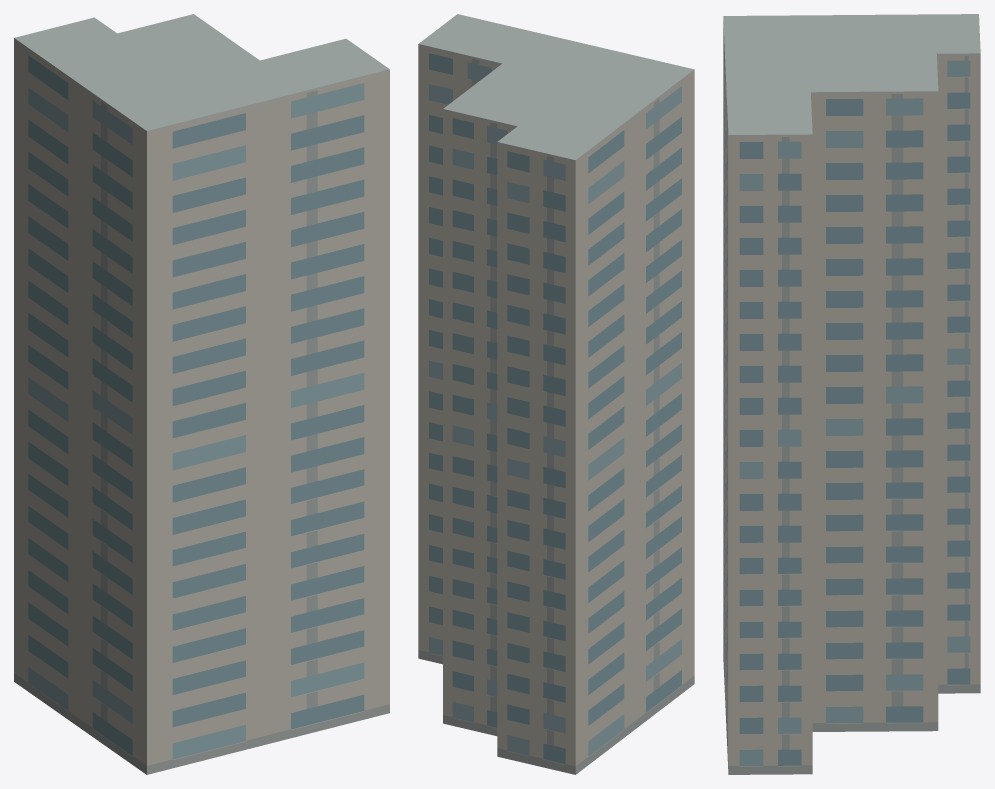
The model's file is residential-b32a165b-7125-4ed0-94af-2a980f3abeb2.glb.
3 views of the same model, side by side, from view 1: azimuth 30°, elevation 25°; view 2: azimuth 150°, elevation 25°; view 3: azimuth 270°, elevation 25° (orthographic). The views are drawn at different scales.
Parts seen in each view (by area): view 1: residential-b32a165b-7125-4ed0-94af-2a980f3abeb2.tmp; view 2: residential-b32a165b-7125-4ed0-94af-2a980f3abeb2.tmp; view 3: residential-b32a165b-7125-4ed0-94af-2a980f3abeb2.tmp.
Boxes of the visible parts, x1,y1,x2,y2 form: residential-b32a165b-7125-4ed0-94af-2a980f3abeb2.tmp: (14, 14, 389, 774); residential-b32a165b-7125-4ed0-94af-2a980f3abeb2.tmp: (418, 14, 694, 774); residential-b32a165b-7125-4ed0-94af-2a980f3abeb2.tmp: (723, 14, 980, 774).
Size of the model in its own units: 26.39 by 65 by 23.71.
